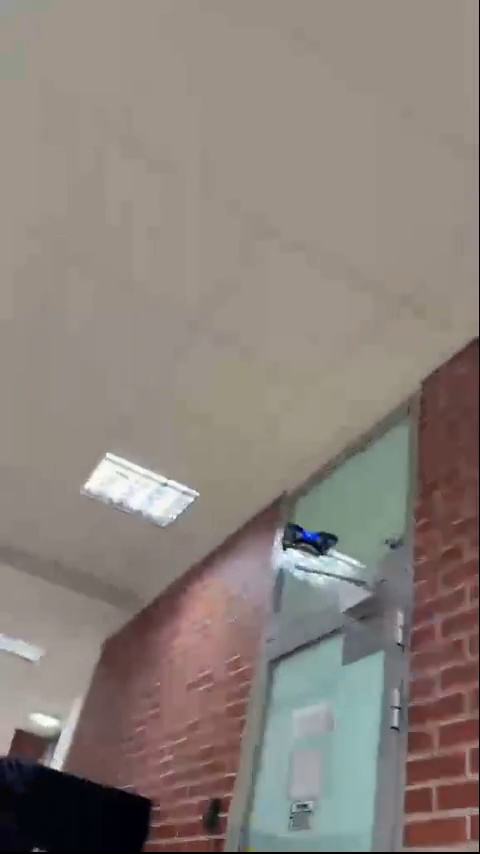drone: (276, 526, 337, 560)
